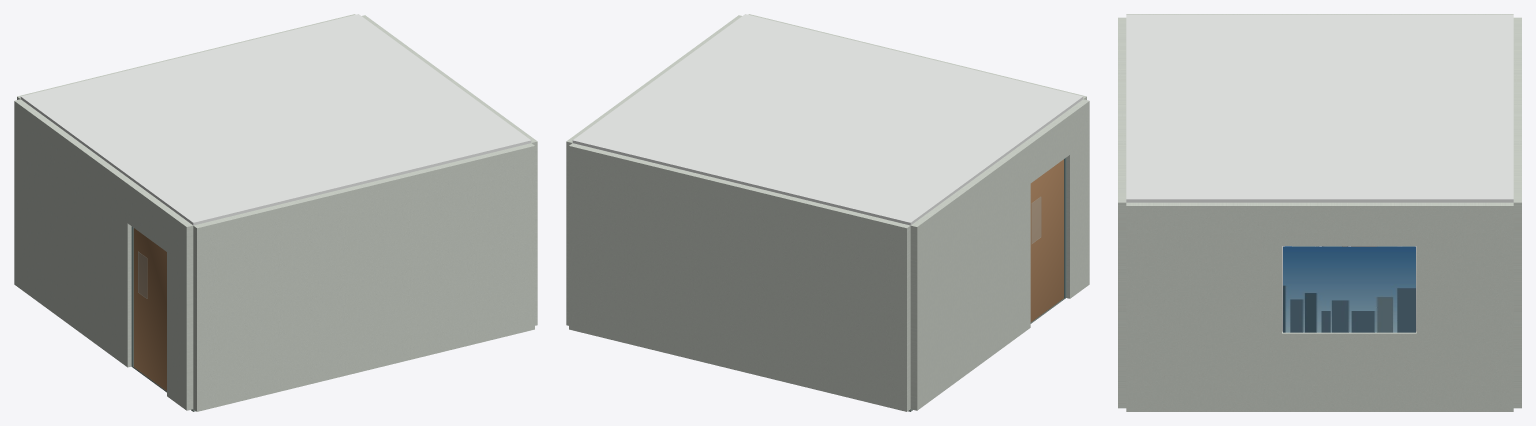
3 renders of one model, left to right at view 1: azimuth 30°, elevation 25°; view 2: azimuth 150°, elevation 25°; view 3: azimuth 270°, elevation 25°, orthographic. The views are drawn at different scales.
Visible parts, largest first — view 1: Wall_Front, Ceiling, Wall_Left, Door, Wall_Right, Wall_Back; view 2: Wall_Back, Ceiling, Wall_Left, Door, Wall_Right, Wall_Front; view 3: Ceiling, Wall_Right, Window_View, Wall_Back, Wall_Front, Wall_Left.
Boxes of the visible parts, x1=… form: Wall_Front: x1=193, y1=143, x2=534, y2=411; Ceiling: x1=20, y1=14, x2=531, y2=225; Wall_Left: x1=14, y1=99, x2=193, y2=410; Door: x1=133, y1=228, x2=166, y2=390; Wall_Right: x1=362, y1=15, x2=537, y2=325; Wall_Back: x1=17, y1=14, x2=355, y2=99; Wall_Back: x1=569, y1=143, x2=910, y2=411; Ceiling: x1=572, y1=14, x2=1083, y2=225; Wall_Left: x1=910, y1=99, x2=1089, y2=410; Door: x1=1030, y1=159, x2=1063, y2=322; Wall_Right: x1=566, y1=15, x2=741, y2=325; Wall_Front: x1=748, y1=14, x2=1086, y2=99; Ceiling: x1=1126, y1=14, x2=1513, y2=202; Wall_Right: x1=1126, y1=202, x2=1513, y2=411; Window_View: x1=1283, y1=246, x2=1415, y2=332; Wall_Back: x1=1513, y1=17, x2=1521, y2=408; Wall_Front: x1=1118, y1=17, x2=1126, y2=408; Wall_Left: x1=1126, y1=14, x2=1513, y2=14.
Bounding box in the file's own units: 5.4 × 2.78 × 4.8.
Materials: 136 (15 with a texture image).
